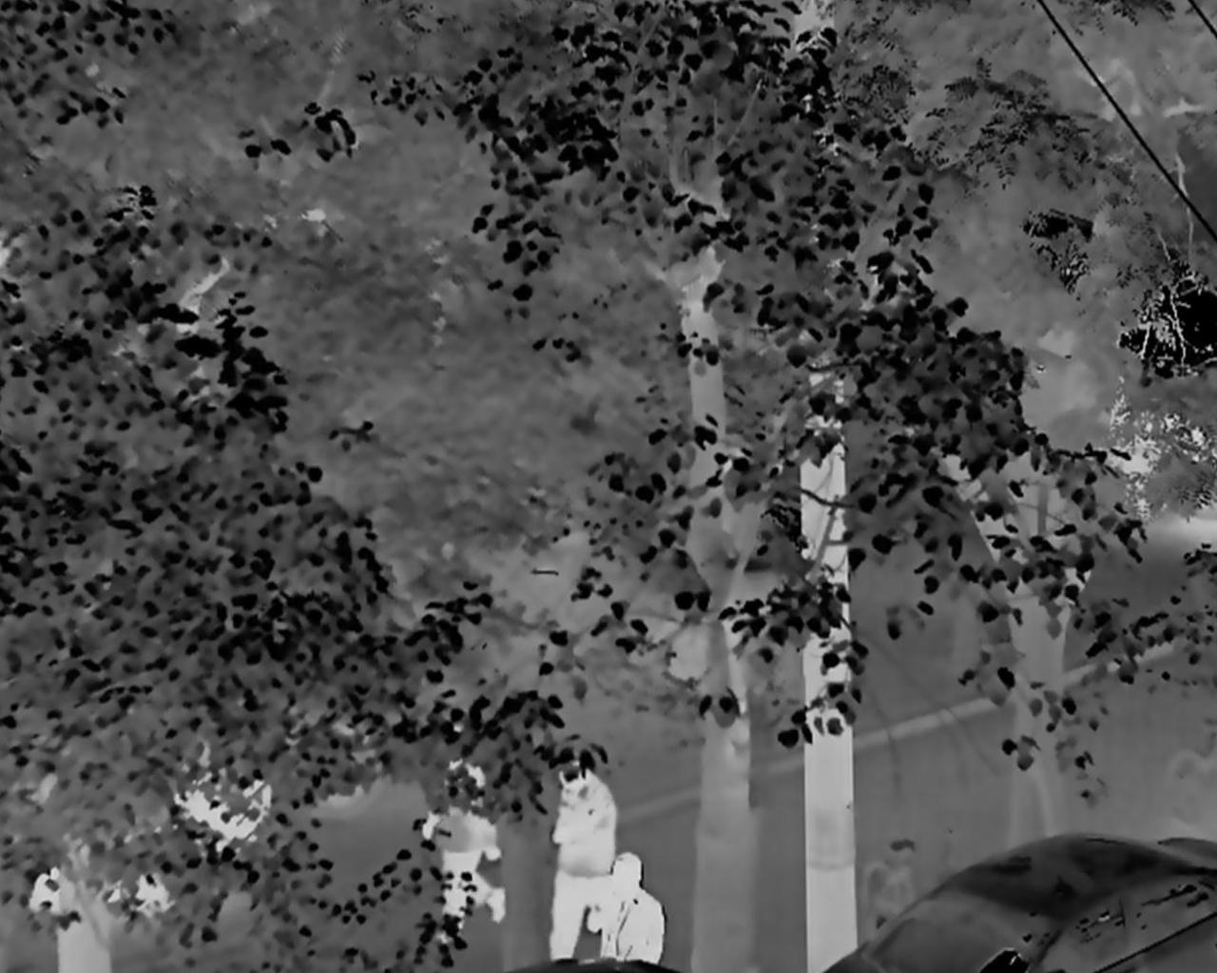person: (425, 746, 509, 935), (555, 757, 618, 960), (589, 849, 666, 971)
